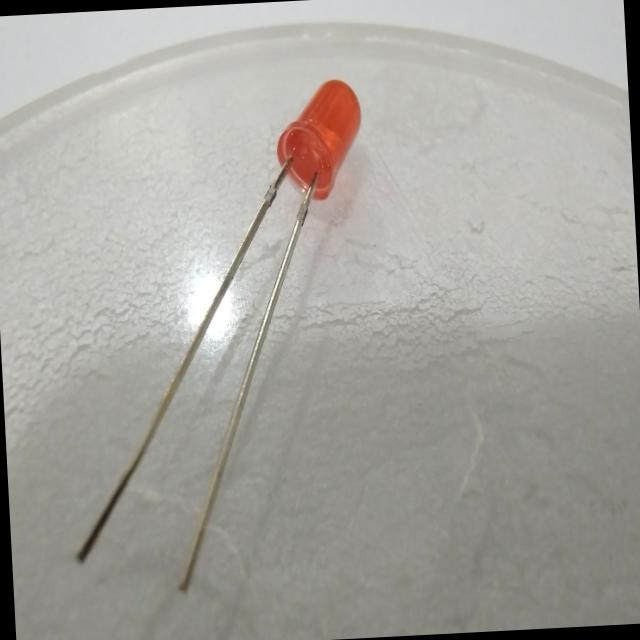red_led: (266, 66, 376, 224)
